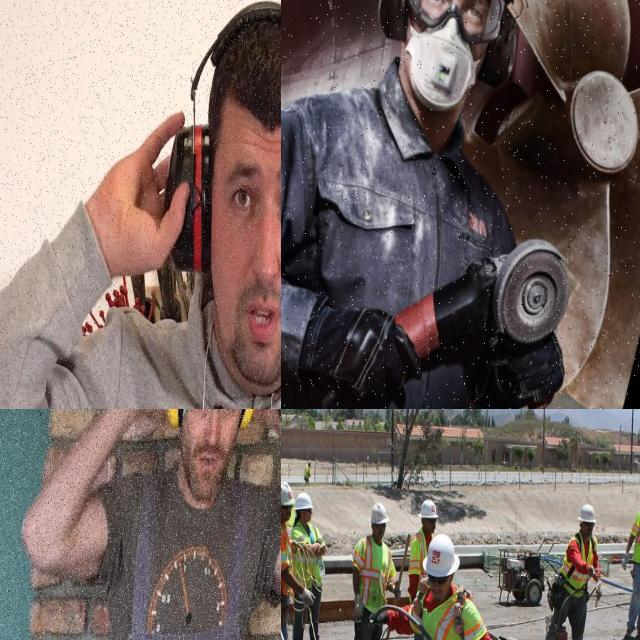Ear-protection: (159, 112, 281, 285), (375, 0, 418, 49), (238, 409, 265, 438), (161, 409, 191, 432)
No_Glasses: (221, 149, 281, 242)
face_nomask: (427, 578, 455, 602)
glasses: (401, 0, 509, 44)
hand_glove: (300, 579, 320, 619), (372, 604, 392, 637), (588, 558, 600, 588), (619, 548, 631, 577)
head_helmet: (422, 534, 462, 577), (369, 502, 388, 525), (419, 499, 439, 520), (577, 503, 596, 525), (294, 492, 314, 512), (281, 480, 295, 507)
head_nohelmet: (183, 0, 281, 152)
person: (281, 0, 574, 396), (0, 0, 281, 409), (411, 534, 493, 640), (553, 504, 604, 640), (348, 503, 396, 640), (292, 492, 327, 640), (408, 502, 437, 582), (626, 492, 640, 640), (281, 483, 291, 640), (301, 460, 313, 485)
vest: (354, 544, 396, 617), (289, 522, 326, 596), (420, 597, 482, 640), (564, 530, 600, 594), (281, 523, 295, 596), (410, 531, 430, 578), (632, 508, 640, 571)
